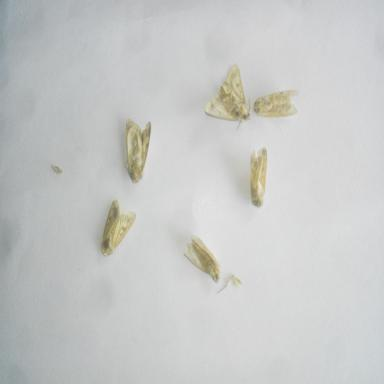abw: (202, 60, 254, 128), (98, 194, 140, 260), (182, 231, 228, 287), (121, 112, 154, 187), (251, 83, 305, 125), (246, 140, 274, 208)
